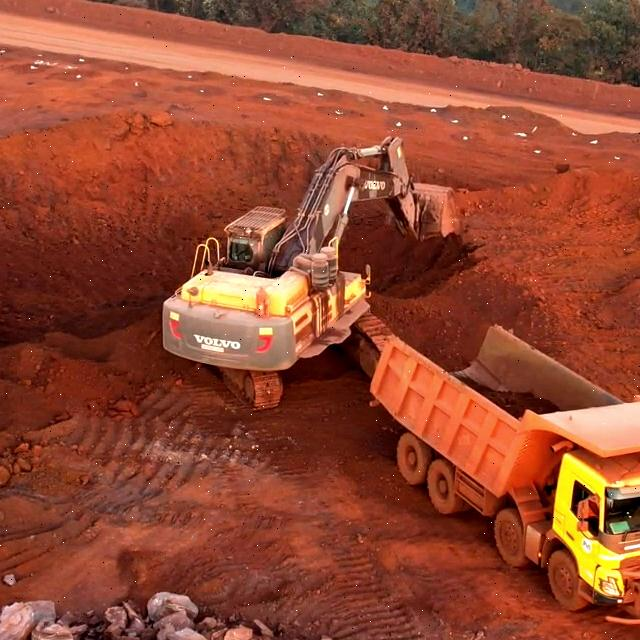Dumper truck: (516, 410, 640, 581)
Excavator: (176, 228, 359, 367)
